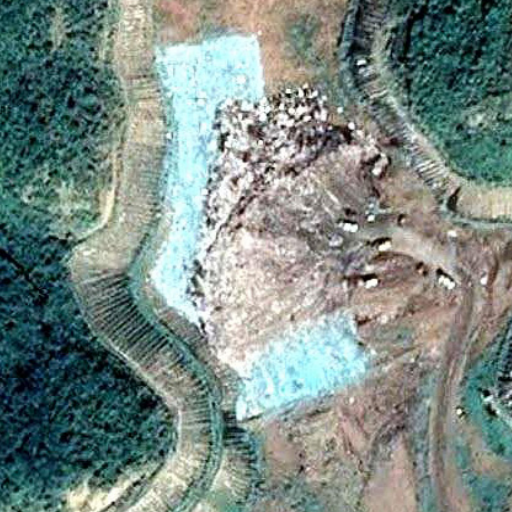msw: (188, 86, 407, 307)
